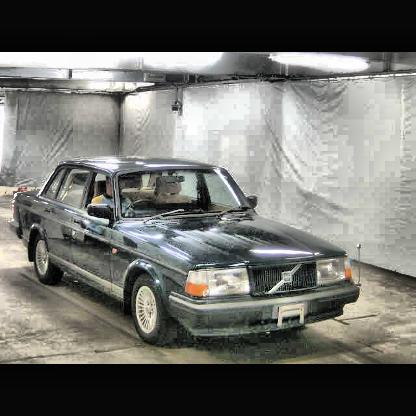Volvo 240 Sedan 1993: (10, 157, 357, 350)
